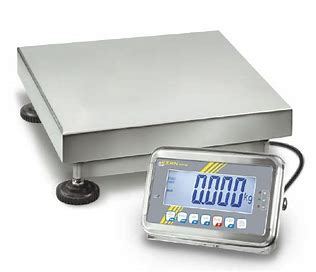Industrial Scale: (11, 28, 305, 257)
